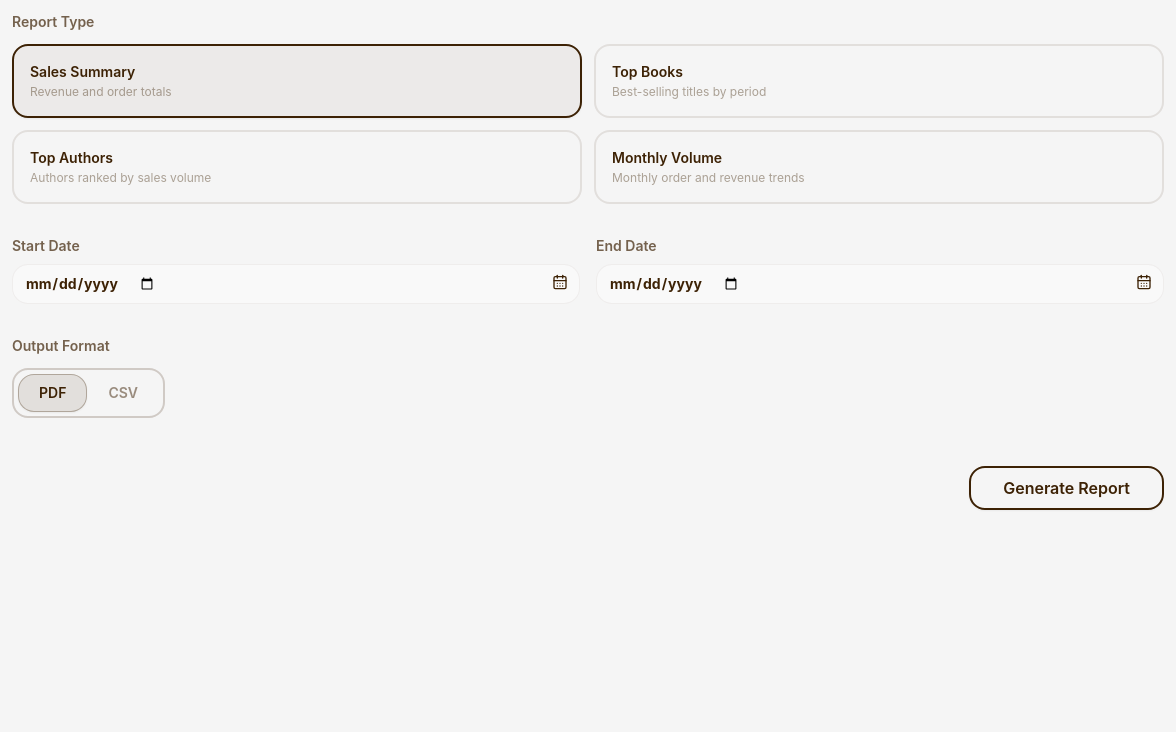
Test: ReportForm › shows limit field for Top Books
Click the text "Top Books".
click(647, 72)  # box [612, 63, 683, 80]
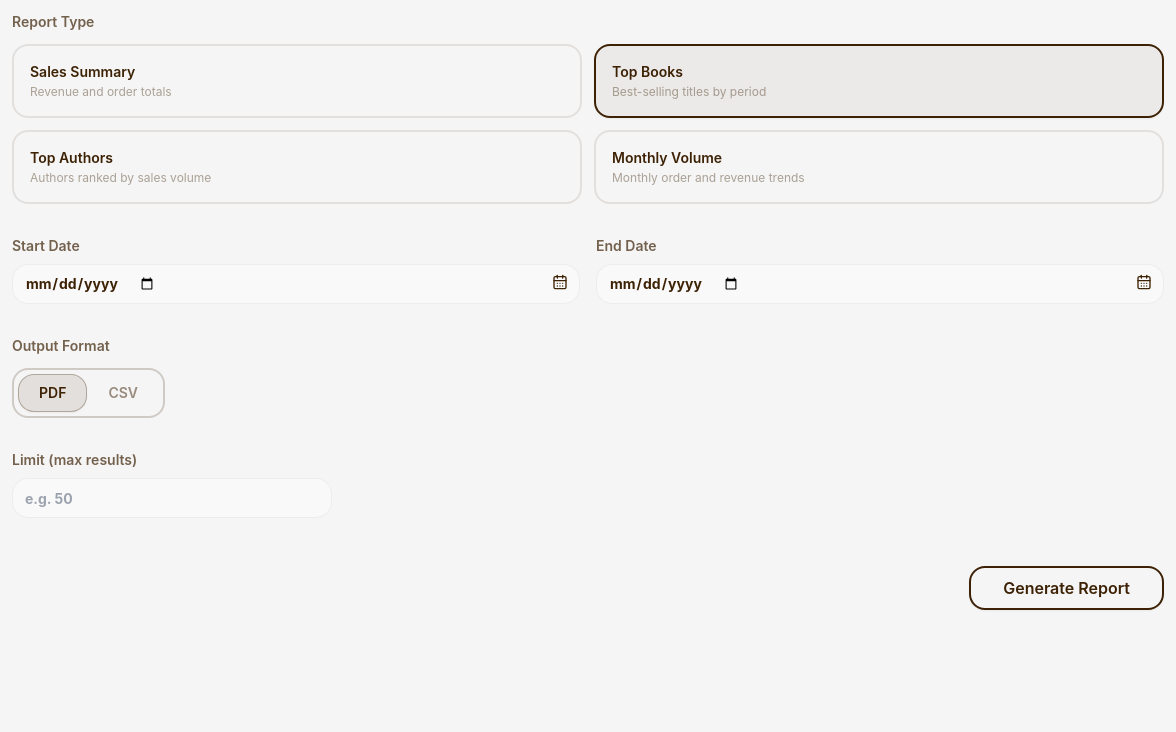
Expected: the number field labelled "Limit (max results)" is shown, [12, 478, 332, 518]
